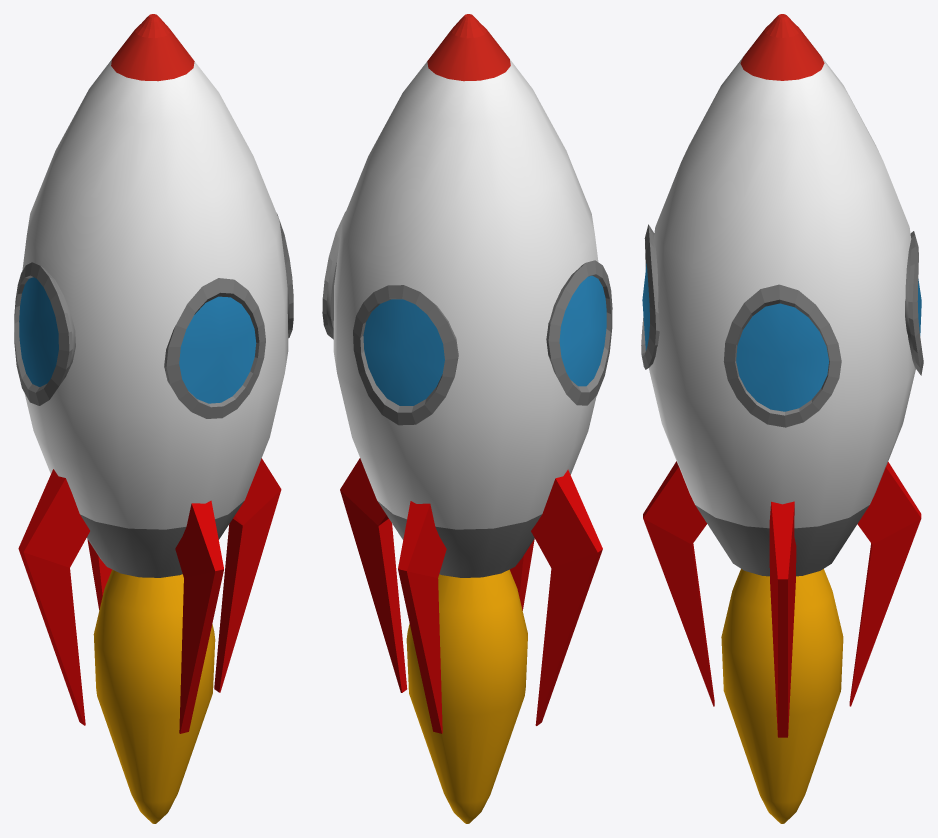
Rendered from cohete.glb.
3 views of the same model, side by side, from view 1: azimuth 30°, elevation 25°; view 2: azimuth 150°, elevation 25°; view 3: azimuth 270°, elevation 25° (orthographic).
Parts seen in each view (by area): view 1: pCylinder1, pCylinder7, pCylinder3, pCube4, pCylinder6, pCube3, pCube2, pCube1, pCylinder4; view 2: pCylinder1, pCylinder7, pCylinder5, pCube4, pCylinder6, pCube1, pCube2, pCylinder4, pCube3; view 3: pCylinder1, pCylinder7, pCylinder4, pCube3, pCube1, pCube2, pCylinder3, pCylinder5.
Part boxes in pixels (<box>): pCylinder1: <box>22,14,288,577</box>; pCylinder7: <box>93,569,215,823</box>; pCylinder3: <box>164,278,265,418</box>; pCube4: <box>18,469,89,725</box>; pCylinder6: <box>14,262,75,405</box>; pCube3: <box>175,500,223,733</box>; pCube2: <box>214,458,281,692</box>; pCube1: <box>87,539,111,609</box>; pCylinder4: <box>277,214,293,338</box>; pCylinder1: <box>333,14,598,577</box>; pCylinder7: <box>406,569,527,823</box>; pCylinder5: <box>353,285,458,425</box>; pCube4: <box>531,469,602,725</box>; pCylinder6: <box>546,260,612,405</box>; pCube1: <box>398,501,446,733</box>; pCube2: <box>340,458,407,692</box>; pCylinder4: <box>322,211,345,339</box>; pCube3: <box>509,539,534,610</box>; pCylinder1: <box>648,14,915,576</box>; pCylinder7: <box>721,569,843,823</box>; pCylinder4: <box>723,284,841,427</box>; pCube3: <box>643,461,714,706</box>; pCube1: <box>849,462,921,706</box>; pCube2: <box>769,501,796,737</box>; pCylinder3: <box>641,224,659,369</box>; pCylinder5: <box>905,231,923,375</box>.
Size of the model in its own units: 0.0363 by 0.1083 by 0.0344.
